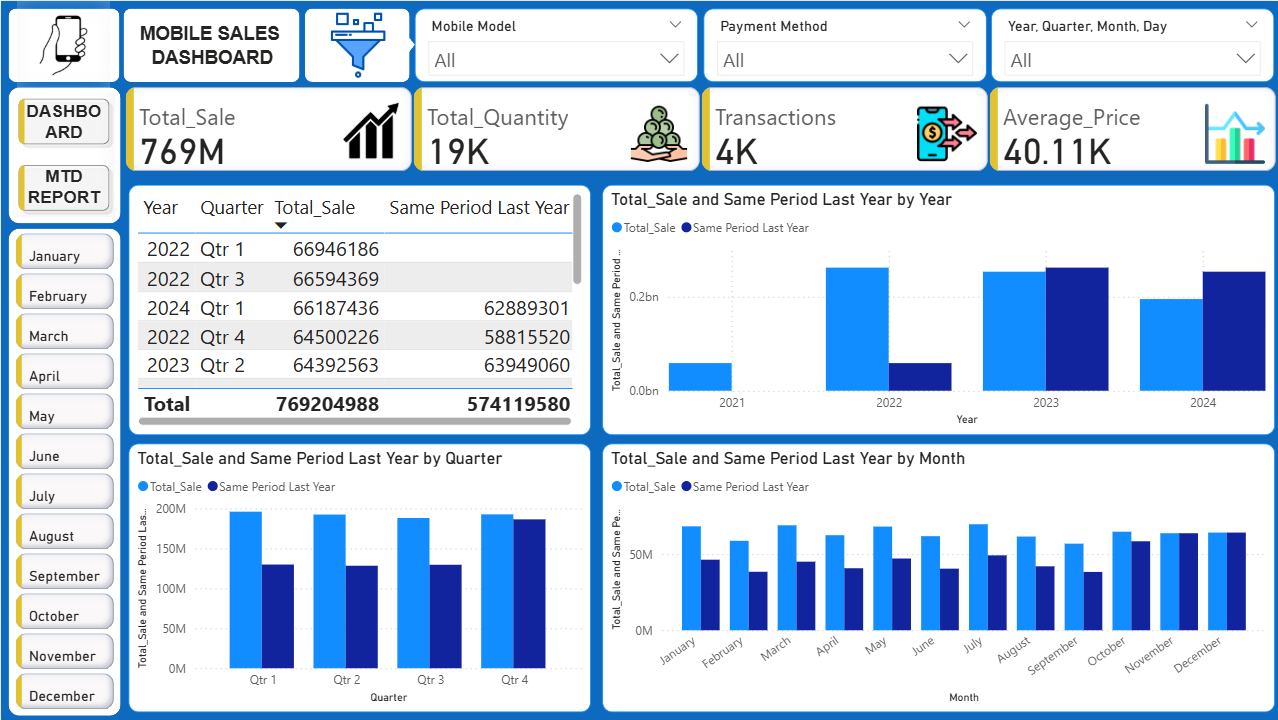

Layout of this report page (visuals, bound fields, positions):
{"tool":"powerbi","page":{"name":"SAME PERIOD LAST YEAR","canvas":[1280,720],"ordinal":2},"visuals":[{"type":"shape","box":[386.1,26.5,27.7,35],"z":0},{"type":"shape","box":[7.2,7.2,111,73.6],"z":1000},{"type":"image","box":[15.7,0,92.9,89.3],"z":2000},{"type":"shape","box":[7.2,85.7,112.2,136.3],"z":3000},{"type":"shape","box":[7.2,228,112.2,487.4],"z":4000},{"type":"advancedSlicerVisual","fields":{"Values":["Custom_Calender.Date.Variation.Date Hierarchy.Month"]},"box":[9.7,228,108.6,487.4],"z":5000},{"type":"cardVisual","fields":{"Data":["Sales_Data.Total_Sale","Sales_Data.Total_Quantity","Sales_Data.Transactions","Sales_Data.Average_Price"]},"box":[119.4,80.8,1160.6,94.1],"z":6000},{"type":"slicer","fields":{"Values":["Sales_Data.Mobile Model"]},"box":[413.8,7.2,283.5,73.6],"z":7000},{"type":"slicer","fields":{"Values":["Sales_Data.Payment Method"]},"box":[702.1,7.2,283.5,73.6],"z":8000},{"type":"slicer","fields":{"Values":["Custom_Calender.Date.Variation.Date Hierarchy.Year","Custom_Calender.Date.Variation.Date Hierarchy.Quarter","Custom_Calender.Date.Variation.Date Hierarchy.Month","Custom_Calender.Date.Variation.Date Hierarchy.Day"]},"box":[990.5,7.2,283.5,73.6],"z":9000},{"type":"shape","box":[304,7.2,105,73.6],"z":10000},{"type":"image","box":[318.5,4.8,77.2,78.4],"z":11000},{"type":"shape","box":[123.1,7.2,176.1,73.6],"z":12000},{"type":"textbox","box":[127.5,13.8,167.5,66.2],"z":13000},{"type":"tableEx","fields":{"Values":["Custom_Calender.Date.Variation.Date Hierarchy.Year","Custom_Calender.Date.Variation.Date Hierarchy.Quarter","Sales_Data.Total_Sale","Sales_Data.Same Period Last Year"]},"box":[127.5,183.8,462.5,250],"z":14000},{"type":"clusteredColumnChart","fields":{"Category":["Custom_Calender.Date.Variation.Date Hierarchy.Year","Custom_Calender.Date.Variation.Date Hierarchy.Quarter"],"Y":["Sales_Data.Total_Sale","Sales_Data.Same Period Last Year"]},"box":[601.2,183.8,672.5,250],"z":15000},{"type":"clusteredColumnChart","fields":{"Y":["Sales_Data.Total_Sale","Sales_Data.Same Period Last Year"],"Category":["Custom_Calender.Date.Variation.Date Hierarchy.Year","Custom_Calender.Date.Variation.Date Hierarchy.Quarter","Custom_Calender.Date.Variation.Date Hierarchy.Month","Custom_Calender.Date.Variation.Date Hierarchy.Day"]},"box":[601.2,442.5,672.5,268.8],"z":16000},{"type":"clusteredColumnChart","fields":{"Category":["Custom_Calender.Date.Variation.Date Hierarchy.Year","Custom_Calender.Date.Variation.Date Hierarchy.Quarter"],"Y":["Sales_Data.Total_Sale","Sales_Data.Same Period Last Year"]},"box":[127.5,442.5,462.5,268.8],"z":17000},{"type":"pageNavigator","box":[12.5,92.5,101.2,123.8],"z":18000}]}

Visuals, with their boxes in screenshot pixels (x1, y1, x2, y2), scaled from the page's 1280x720 canvas onto the 1278x720 screenshot:
shape: box(385, 26, 413, 62)
shape: box(7, 7, 118, 81)
image: box(16, 0, 108, 89)
shape: box(7, 86, 119, 222)
shape: box(7, 228, 119, 715)
advancedSlicerVisual - Custom_Calender.Date.Variation.Date Hierarchy.Month: box(10, 228, 118, 715)
cardVisual - Sales_Data.Total_Sale x Sales_Data.Total_Quantity: box(119, 81, 1277, 175)
slicer - Sales_Data.Mobile Model: box(413, 7, 696, 81)
slicer - Sales_Data.Payment Method: box(701, 7, 984, 81)
slicer - Custom_Calender.Date.Variation.Date Hierarchy.Year x Custom_Calender.Date.Variation.Date Hierarchy.Quarter: box(989, 7, 1272, 81)
shape: box(304, 7, 408, 81)
image: box(318, 5, 395, 83)
shape: box(123, 7, 299, 81)
textbox: box(127, 14, 295, 80)
tableEx - Custom_Calender.Date.Variation.Date Hierarchy.Year x Custom_Calender.Date.Variation.Date Hierarchy.Quarter: box(127, 184, 589, 434)
clusteredColumnChart - Custom_Calender.Date.Variation.Date Hierarchy.Year x Custom_Calender.Date.Variation.Date Hierarchy.Quarter: box(600, 184, 1272, 434)
clusteredColumnChart - Sales_Data.Total_Sale x Sales_Data.Same Period Last Year: box(600, 442, 1272, 711)
clusteredColumnChart - Custom_Calender.Date.Variation.Date Hierarchy.Year x Custom_Calender.Date.Variation.Date Hierarchy.Quarter: box(127, 442, 589, 711)
pageNavigator: box(12, 92, 114, 216)
